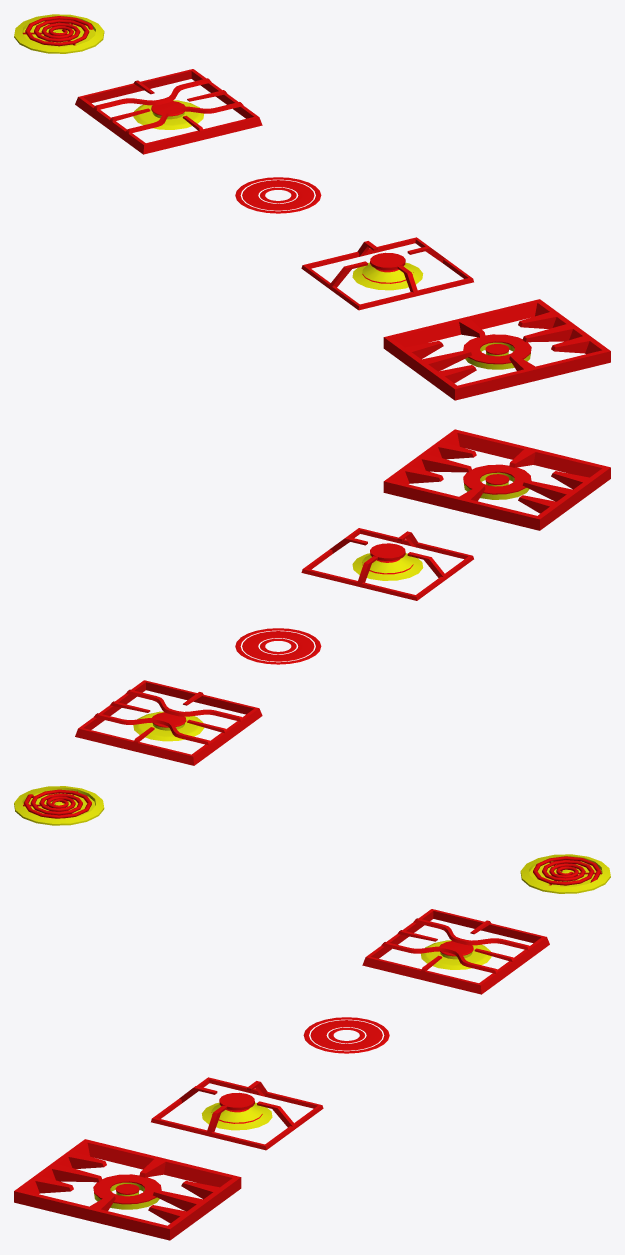
File: MT_stove_burners.fbx
The picture shows the model from 3 angles, top to bottom: view 1: azimuth 30°, elevation 25°; view 2: azimuth 150°, elevation 25°; view 3: azimuth 330°, elevation 25°; orthographic projection.
Parts seen in each view (by area): view 1: stove_burner_1, stove_burner_4, stove_burner_2, stove_burner_5, stove_burner_3; view 2: stove_burner_1, stove_burner_4, stove_burner_2, stove_burner_5, stove_burner_3; view 3: stove_burner_1, stove_burner_4, stove_burner_2, stove_burner_5, stove_burner_3.
Boxes of the visible parts, x1=… form: stove_burner_1: x1=383, y1=299, x2=610, y2=400; stove_burner_4: x1=75, y1=69, x2=262, y2=154; stove_burner_2: x1=301, y1=237, x2=473, y2=310; stove_burner_5: x1=14, y1=14, x2=104, y2=53; stove_burner_3: x1=235, y1=177, x2=321, y2=213; stove_burner_1: x1=383, y1=429, x2=610, y2=530; stove_burner_4: x1=75, y1=680, x2=262, y2=765; stove_burner_2: x1=301, y1=528, x2=473, y2=600; stove_burner_5: x1=14, y1=786, x2=104, y2=825; stove_burner_3: x1=235, y1=628, x2=321, y2=664; stove_burner_1: x1=14, y1=1139, x2=241, y2=1240; stove_burner_4: x1=362, y1=909, x2=549, y2=994; stove_burner_2: x1=151, y1=1077, x2=323, y2=1150; stove_burner_5: x1=520, y1=854, x2=610, y2=893; stove_burner_3: x1=303, y1=1017, x2=389, y2=1053.
Bounding box in the file's own units: 41.13 × 4.79 × 227.
